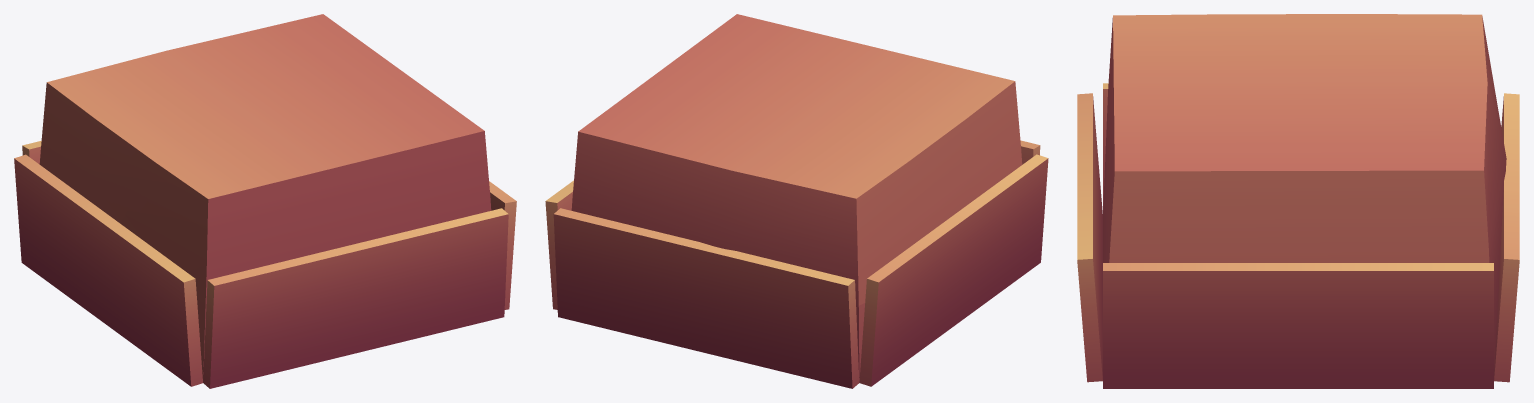
Rendered from feature_paperbox.fbx.
3 views of the same model, side by side, from view 1: azimuth 30°, elevation 25°; view 2: azimuth 150°, elevation 25°; view 3: azimuth 270°, elevation 25° (orthographic). The views are drawn at different scales.
Visible parts, largest first — view 1: boxpaper, canh4, canh1, canh3; view 2: boxpaper, canh2, canh1, canh3; view 3: boxpaper, canh3, canh4, canh2, canh1.
Boxes of the visible parts, bbox=[...] form: boxpaper: bbox=[39, 14, 491, 382]; canh4: bbox=[203, 208, 508, 388]; canh1: bbox=[14, 154, 202, 386]; canh3: bbox=[489, 181, 516, 309]; boxpaper: bbox=[571, 14, 1022, 380]; canh2: bbox=[553, 208, 859, 388]; canh1: bbox=[859, 154, 1048, 386]; canh3: bbox=[545, 180, 573, 309]; boxpaper: bbox=[1103, 14, 1506, 378]; canh3: bbox=[1103, 263, 1493, 388]; canh4: bbox=[1077, 93, 1102, 382]; canh2: bbox=[1494, 93, 1519, 382]; canh1: bbox=[1103, 83, 1108, 210].
Size of the model in its own units: 2.08 by 1.07 by 2.08.
